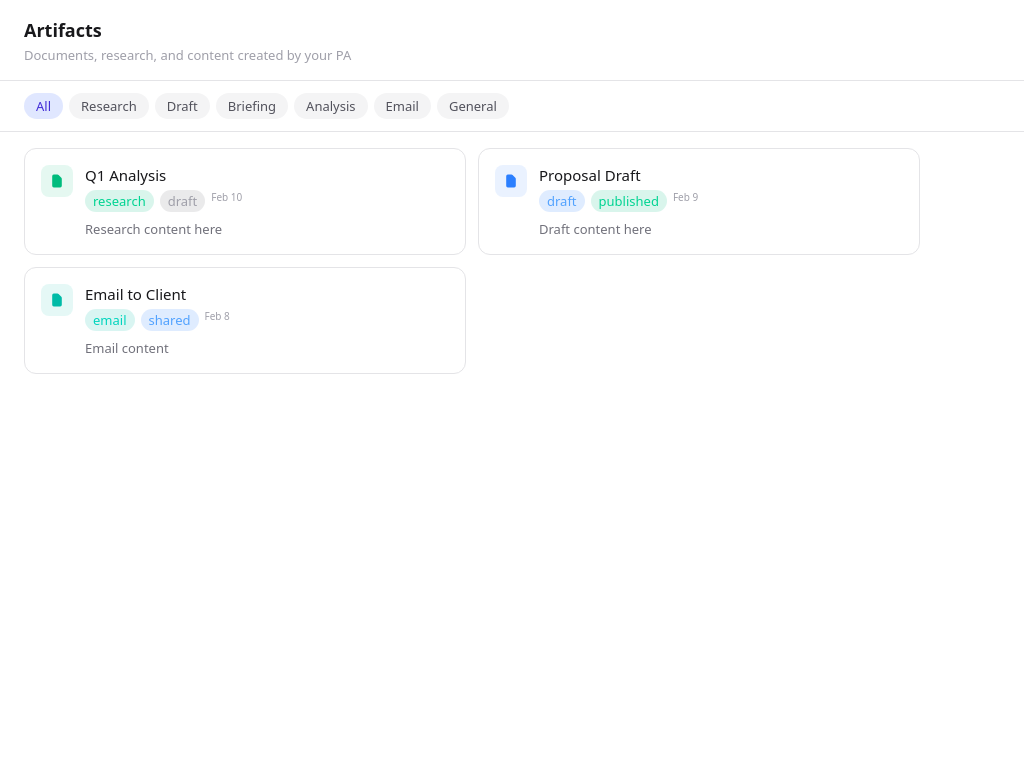
Test case: ArtifactsView › closes detail panel when close button clicked
Click the button "Q1 Analysis research draft Feb 10 Research content here": (245, 202) [24, 148, 466, 255]
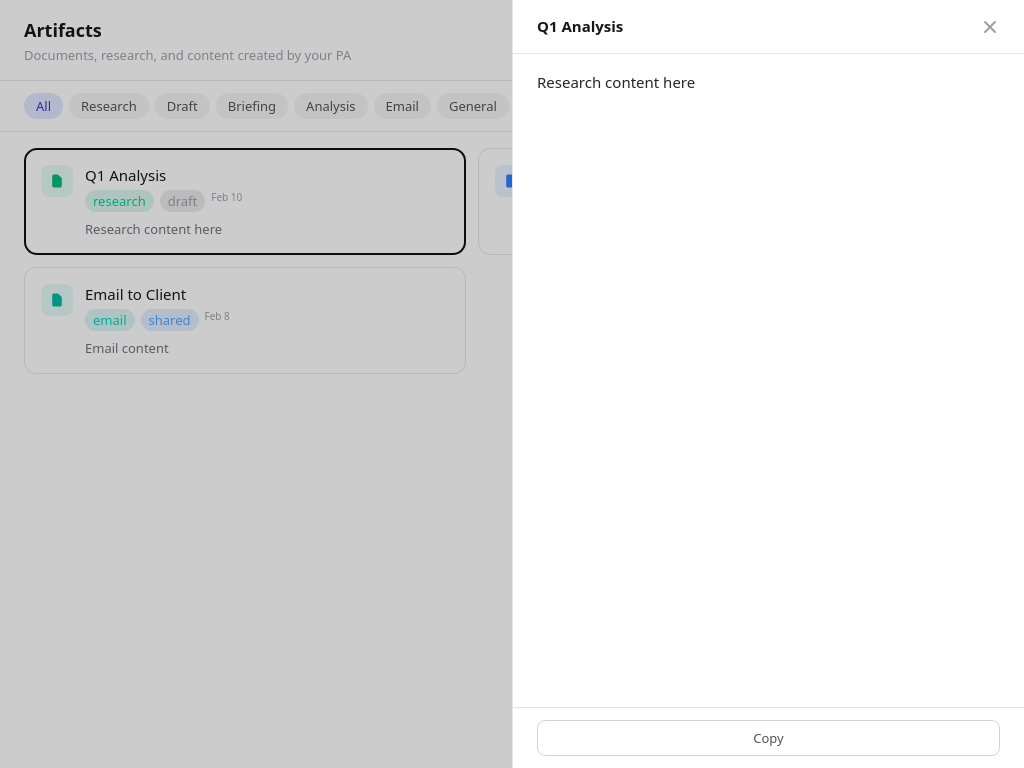
Now the button "Copy" is shown, box [537, 720, 1000, 756]
Now the 1st button is shown
Click the 1st button: (990, 26) [980, 16, 1000, 36]
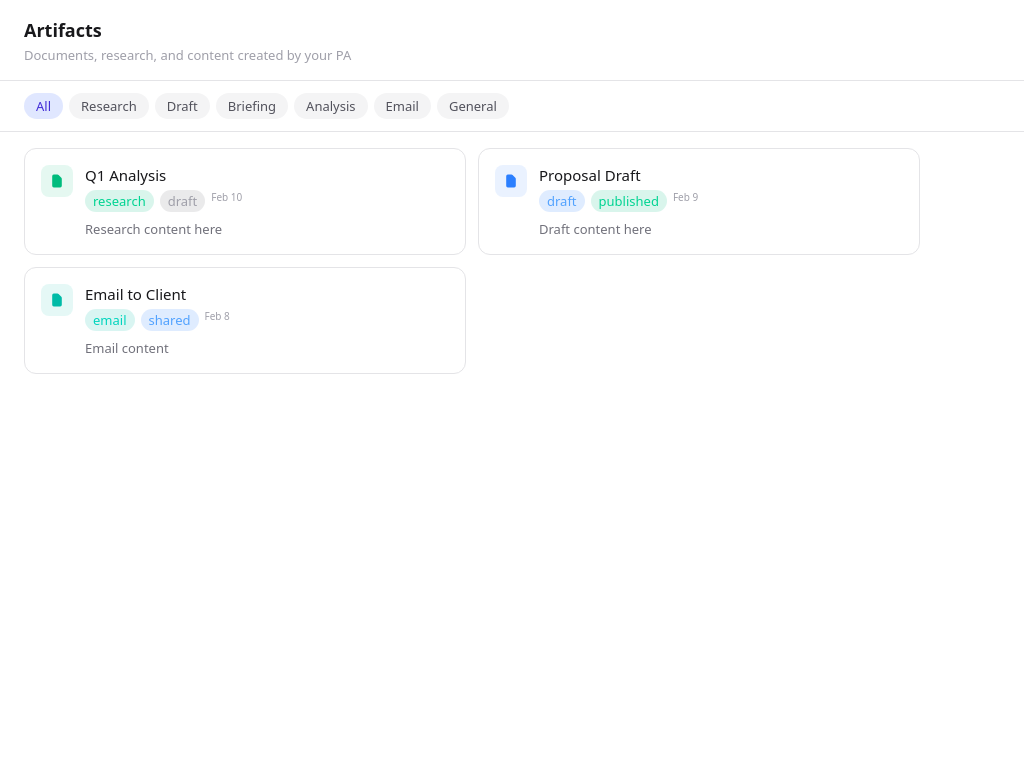
Now the button "Copy" is gone
